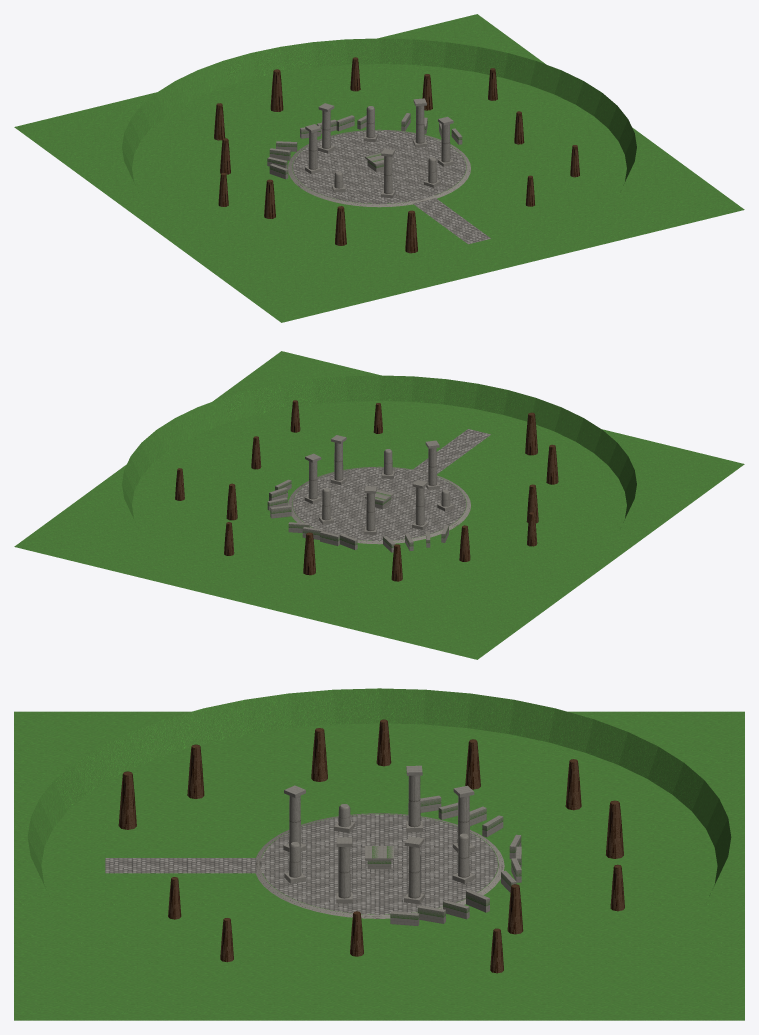
File: shrine-ground.glb
3 renders of one model, top to bottom at view 1: azimuth 30°, elevation 25°; view 2: azimuth 150°, elevation 25°; view 3: azimuth 270°, elevation 25°, orthographic. The views are drawn at different scales.
Visible parts, largest first — view 1: ShrineGround; view 2: ShrineGround; view 3: ShrineGround.
Boxes of the visible parts, x1,y1,x2,y2 form: ShrineGround: (14, 14, 744, 322); ShrineGround: (14, 351, 744, 659); ShrineGround: (14, 688, 744, 1020).
Size of the model in its own units: 160 by 14.8 by 160.
Materials: 5 (5 with a texture image).
